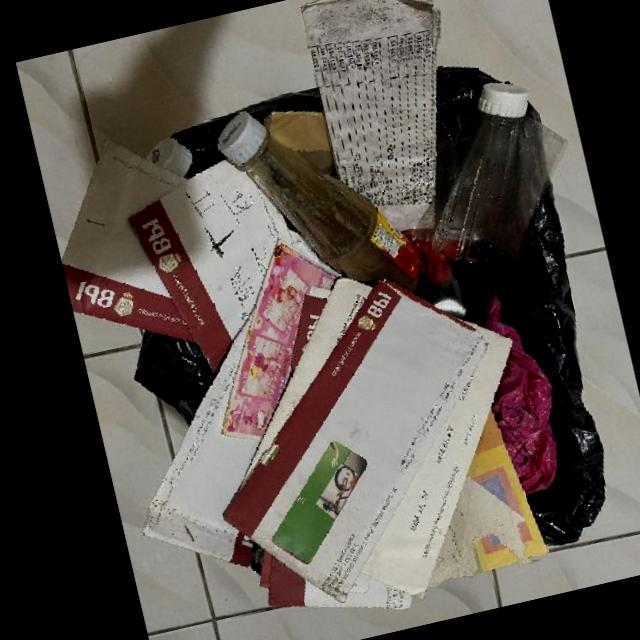chai_thuy_tinh: (218, 112, 430, 294), (416, 80, 528, 325)
giay: (220, 276, 488, 603), (127, 158, 325, 378), (363, 324, 514, 596), (299, 0, 441, 231), (142, 312, 259, 571), (237, 274, 371, 494), (62, 137, 196, 342), (222, 237, 338, 440), (431, 411, 548, 589), (258, 549, 411, 612), (265, 112, 334, 171)
tui_ni_long: (482, 293, 558, 497)
